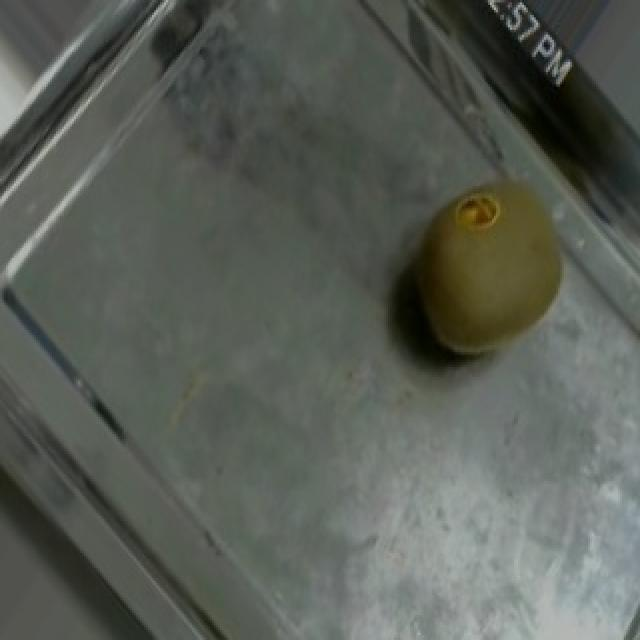Fruit: (358, 149, 608, 389)
